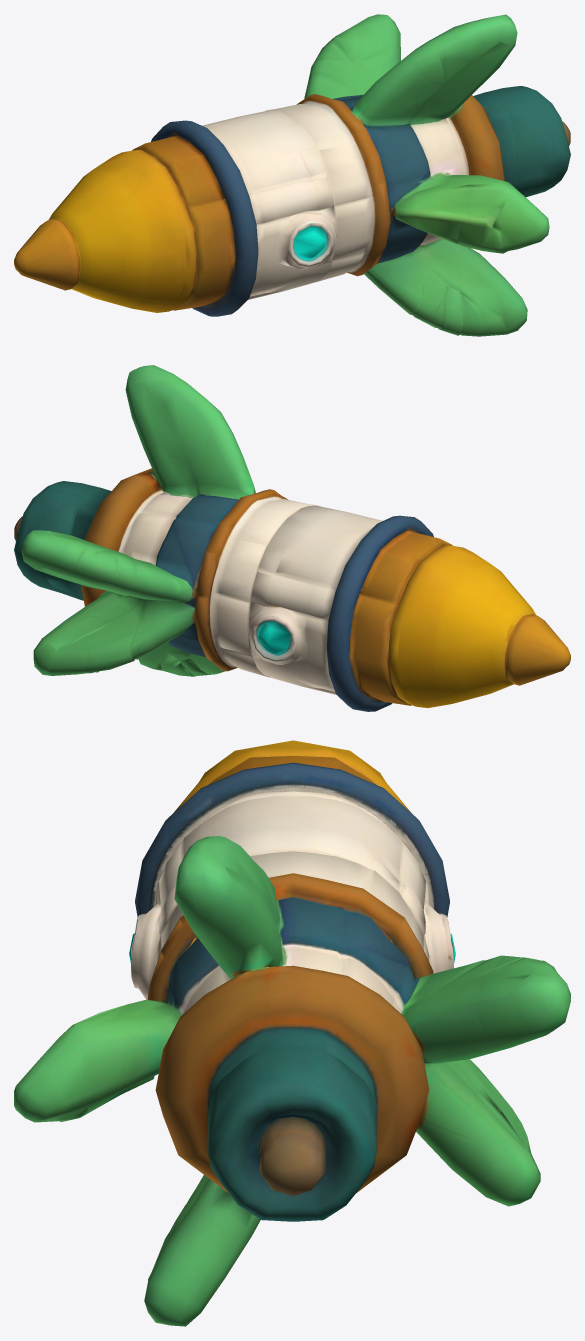
The model's file is missile.glb.
3 views of the same model, one above another, from view 1: azimuth 30°, elevation 25°; view 2: azimuth 150°, elevation 25°; view 3: azimuth 270°, elevation 25° (orthographic). The views are drawn at different scales.
Parts seen in each view (by area): view 1: tripo_node_bc343e20-7a85-4b39-bd8c-0b5f579f457c; view 2: tripo_node_bc343e20-7a85-4b39-bd8c-0b5f579f457c; view 3: tripo_node_bc343e20-7a85-4b39-bd8c-0b5f579f457c.
Boxes of the visible parts, left/top/right/bottom form: tripo_node_bc343e20-7a85-4b39-bd8c-0b5f579f457c: left=14, top=14, right=570, bottom=336; tripo_node_bc343e20-7a85-4b39-bd8c-0b5f579f457c: left=14, top=365, right=570, bottom=711; tripo_node_bc343e20-7a85-4b39-bd8c-0b5f579f457c: left=14, top=740, right=570, bottom=1326.
Size of the model in its own units: 0.9768 by 0.5219 by 0.5639.
Materials: 1 (1 with a texture image).
